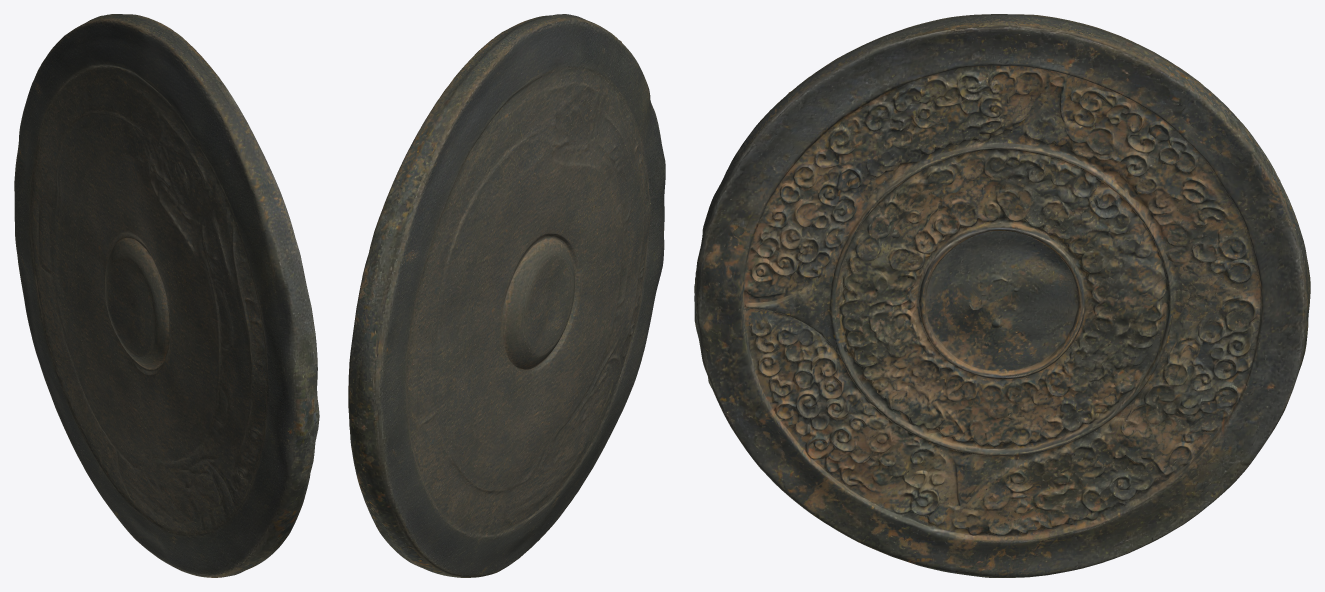
File: 6ba2f2dc-6abb-4f1c-ad9f-ae0006f6efe1.glb
3 renders of one model, left to right at view 1: azimuth 30°, elevation 25°; view 2: azimuth 150°, elevation 25°; view 3: azimuth 270°, elevation 25°, orthographic. The views are drawn at different scales.
Parts seen in each view (by area): view 1: tripo_node_e32d83b8-2c1a-4f35-9766-b575e36e05c7; view 2: tripo_node_e32d83b8-2c1a-4f35-9766-b575e36e05c7; view 3: tripo_node_e32d83b8-2c1a-4f35-9766-b575e36e05c7.
Boxes of the visible parts, left/top/right/bottom form: tripo_node_e32d83b8-2c1a-4f35-9766-b575e36e05c7: left=14, top=14, right=319, bottom=577; tripo_node_e32d83b8-2c1a-4f35-9766-b575e36e05c7: left=348, top=14, right=665, bottom=577; tripo_node_e32d83b8-2c1a-4f35-9766-b575e36e05c7: left=694, top=14, right=1310, bottom=577.
Bounding box in the file's own units: 0.1226 × 1 × 0.9969.
Materials: 1 (1 with a texture image).
